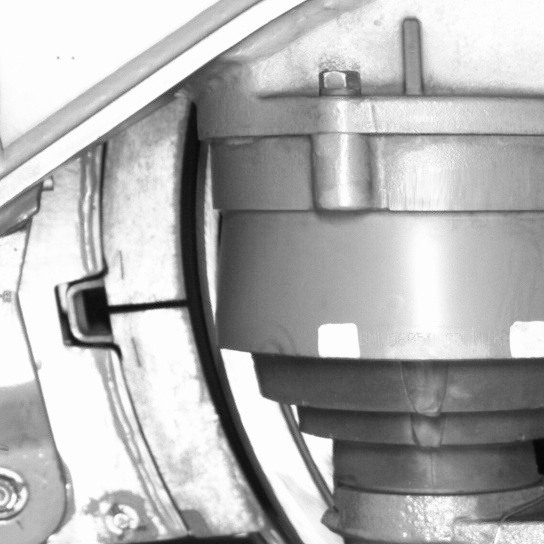KnifeSwitch: (106, 134, 304, 542)
